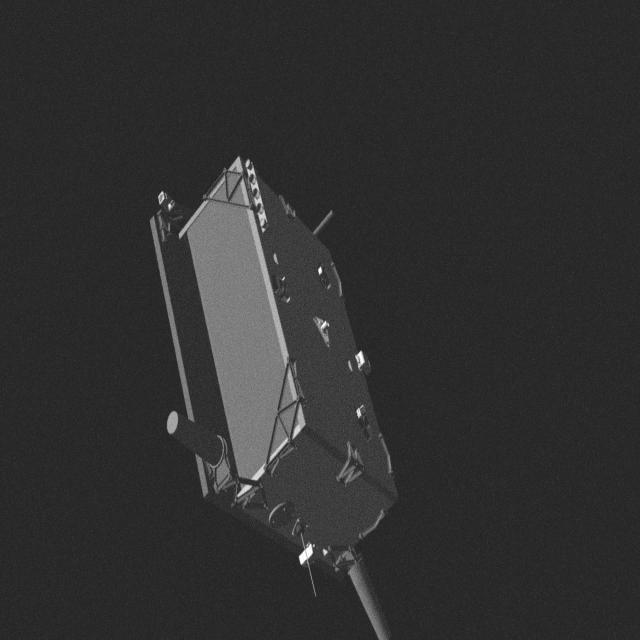medium_debris: (144, 152, 420, 640)
